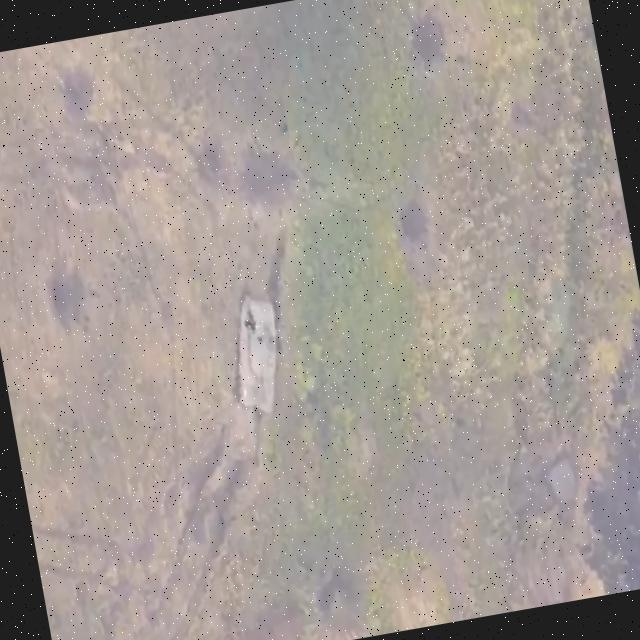MBT: (220, 289, 299, 426)
